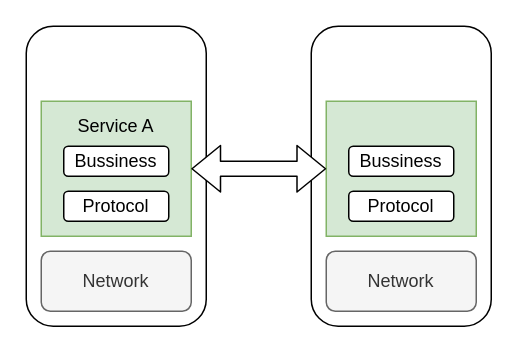
This 518x353 diagram has some shape labels left out. The box of each missing label's shape, as (x1, y1, x2, y2) in pixels:
Machine A: (25, 25, 206, 326)
Machine B: (310, 25, 491, 326)
Service B: (325, 100, 476, 236)
